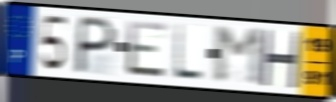5: (39, 13, 68, 71)
E: (125, 18, 169, 80)
H: (259, 28, 303, 91)
L: (172, 22, 206, 83)
M: (212, 26, 265, 88)
P: (72, 14, 120, 76)
